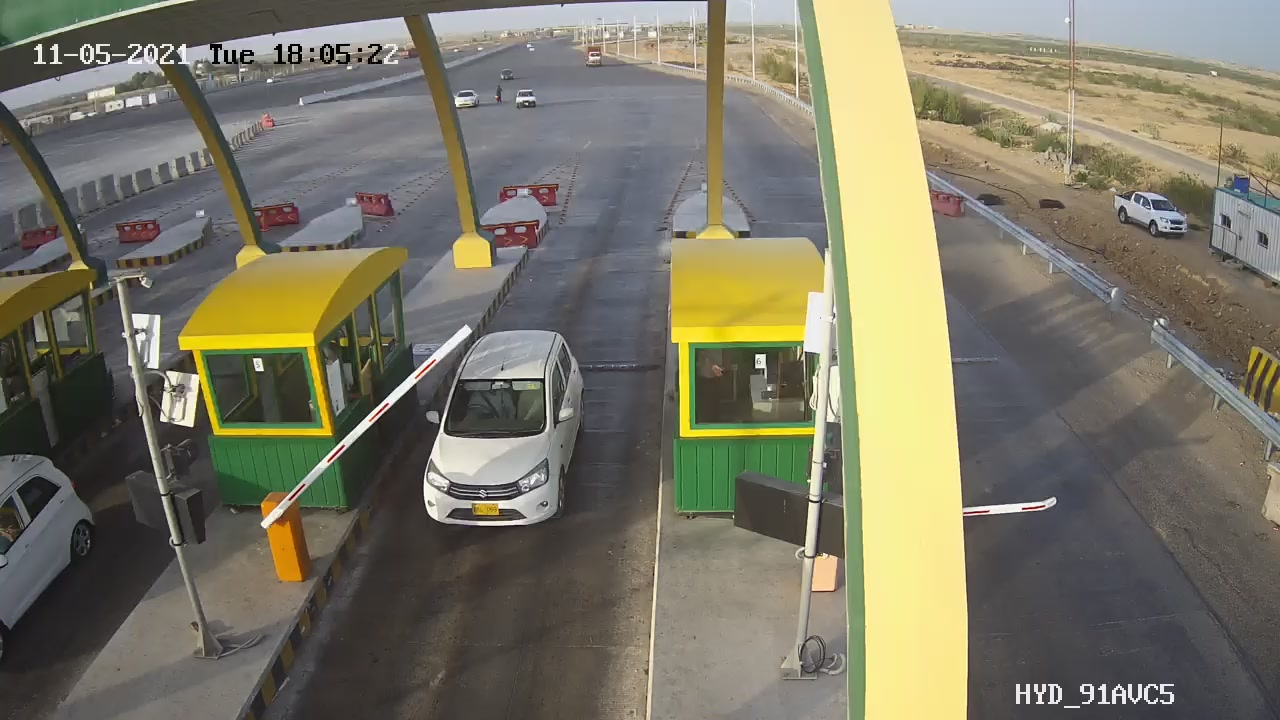F1: (378, 320, 624, 534)
